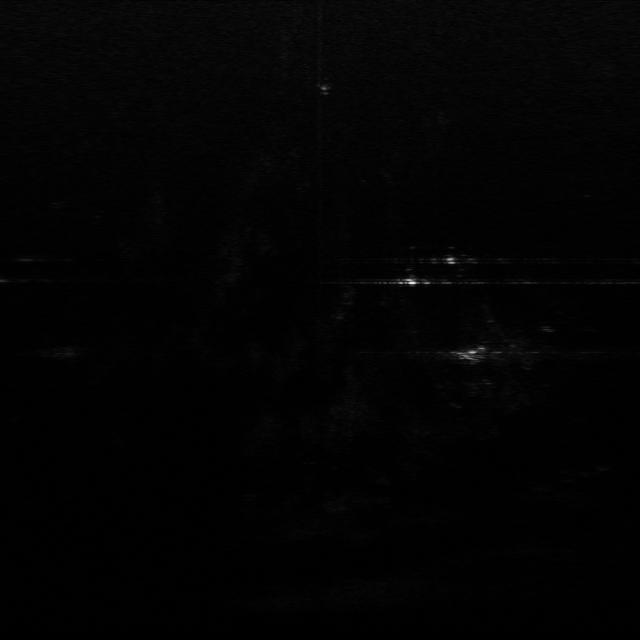rov: (456, 341, 498, 365)
